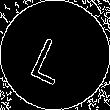L_NE: (30, 26, 80, 84)
